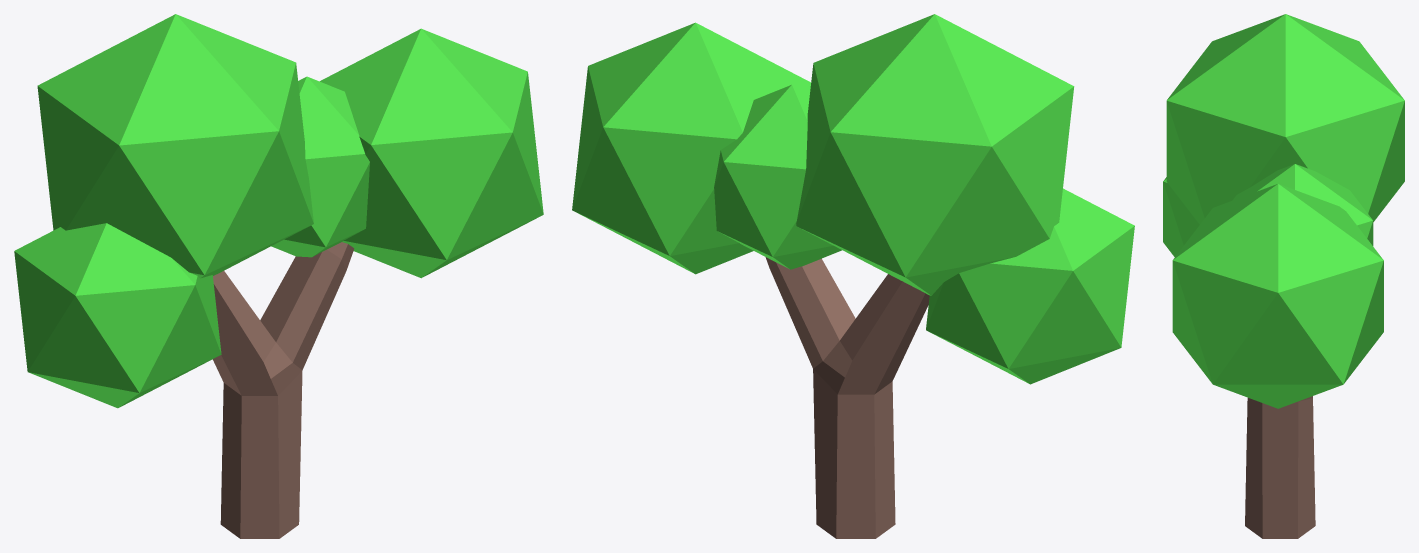
The model's file is Tree_2.fbx.
3 views of the same model, side by side, from view 1: azimuth 30°, elevation 25°; view 2: azimuth 150°, elevation 25°; view 3: azimuth 270°, elevation 25° (orthographic). The views are drawn at different scales.
Parts seen in each view (by area): view 1: Tree_LOD0; view 2: Tree_LOD0; view 3: Tree_LOD0.
Boxes of the visible parts, box(x1,y1,x2,y2) form: Tree_LOD0: box(14, 14, 543, 538); Tree_LOD0: box(572, 14, 1134, 538); Tree_LOD0: box(1163, 14, 1404, 538).
Size of what is drawn, in the model's own units: 379 by 372 by 171.
